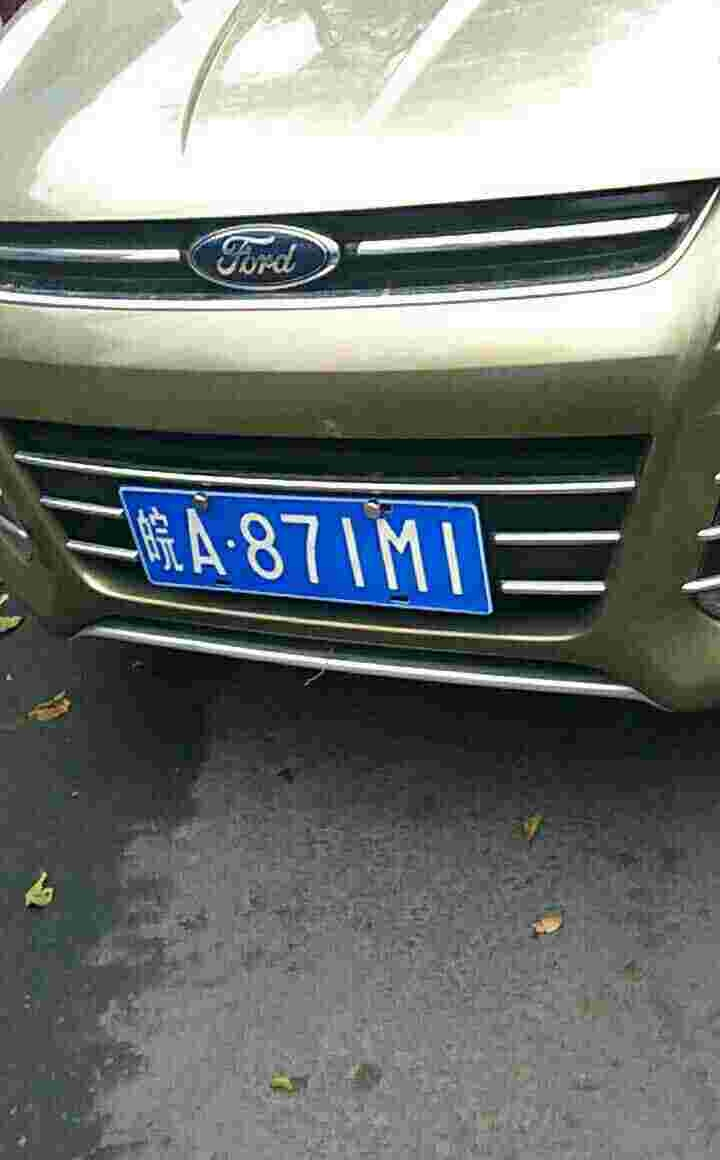license_plate: (124, 486, 512, 611)
